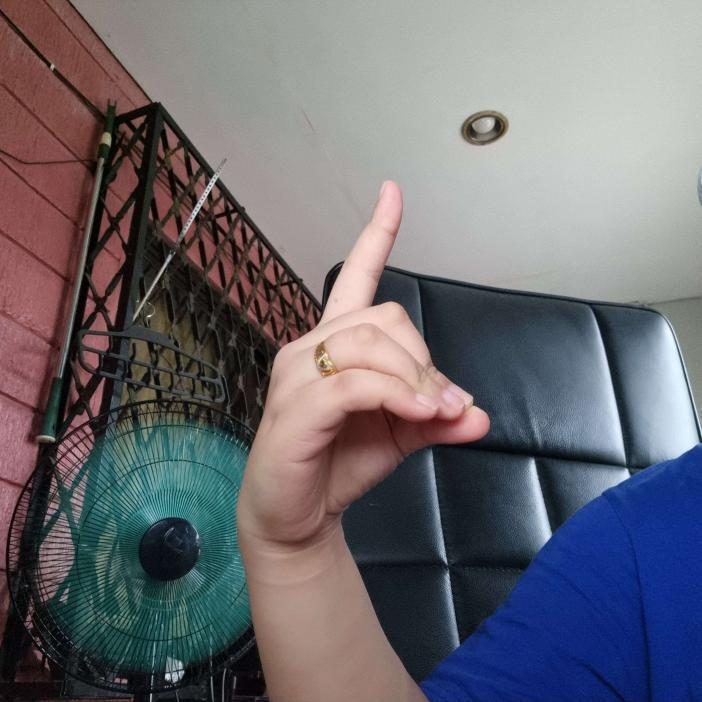d: (234, 177, 492, 582)
